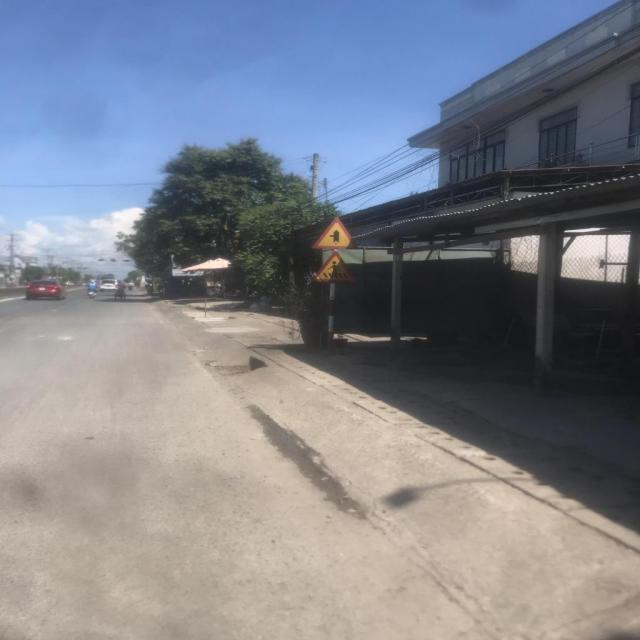chu_y_nguoi_di_bo_cat_ngang: (309, 250, 359, 282)
giao_nhau_voi_duong_khong_uu_tien: (312, 216, 359, 250)
